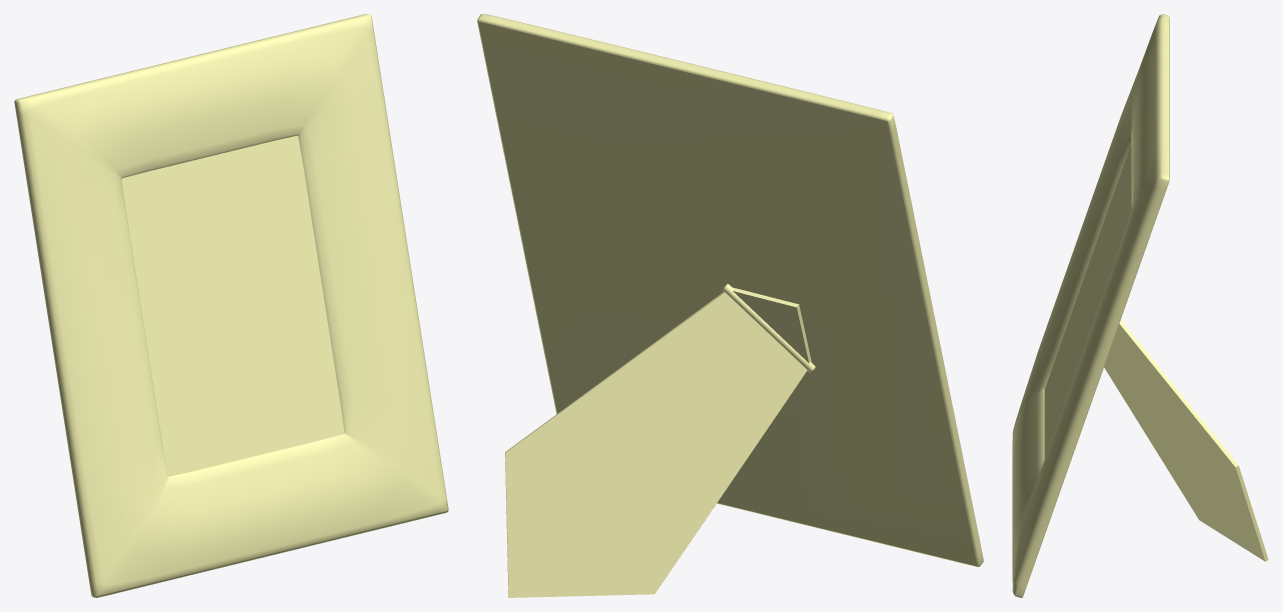
File: MangaKa Props - M_R_InteriorProps_PhotoFrame_03.glb
3 views of the same model, side by side, from view 1: azimuth 30°, elevation 25°; view 2: azimuth 150°, elevation 25°; view 3: azimuth 270°, elevation 25° (orthographic). The views are drawn at different scales.
Parts seen in each view (by area): view 1: M_R_InteriorProps_PhotoFrame_03_blueScreen; view 2: M_R_InteriorProps_PhotoFrame_03_blueScreen; view 3: M_R_InteriorProps_PhotoFrame_03_blueScreen.
Boxes of the visible parts, <box> form: M_R_InteriorProps_PhotoFrame_03_blueScreen: <box>14,14,448,597</box>; M_R_InteriorProps_PhotoFrame_03_blueScreen: <box>477,14,983,597</box>; M_R_InteriorProps_PhotoFrame_03_blueScreen: <box>1012,14,1268,597</box>.
Size of the model in its own units: 0.1999 by 0.239 by 0.1317.
